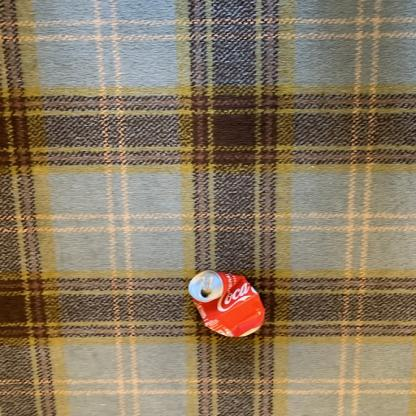trash: (177, 266, 271, 342)
